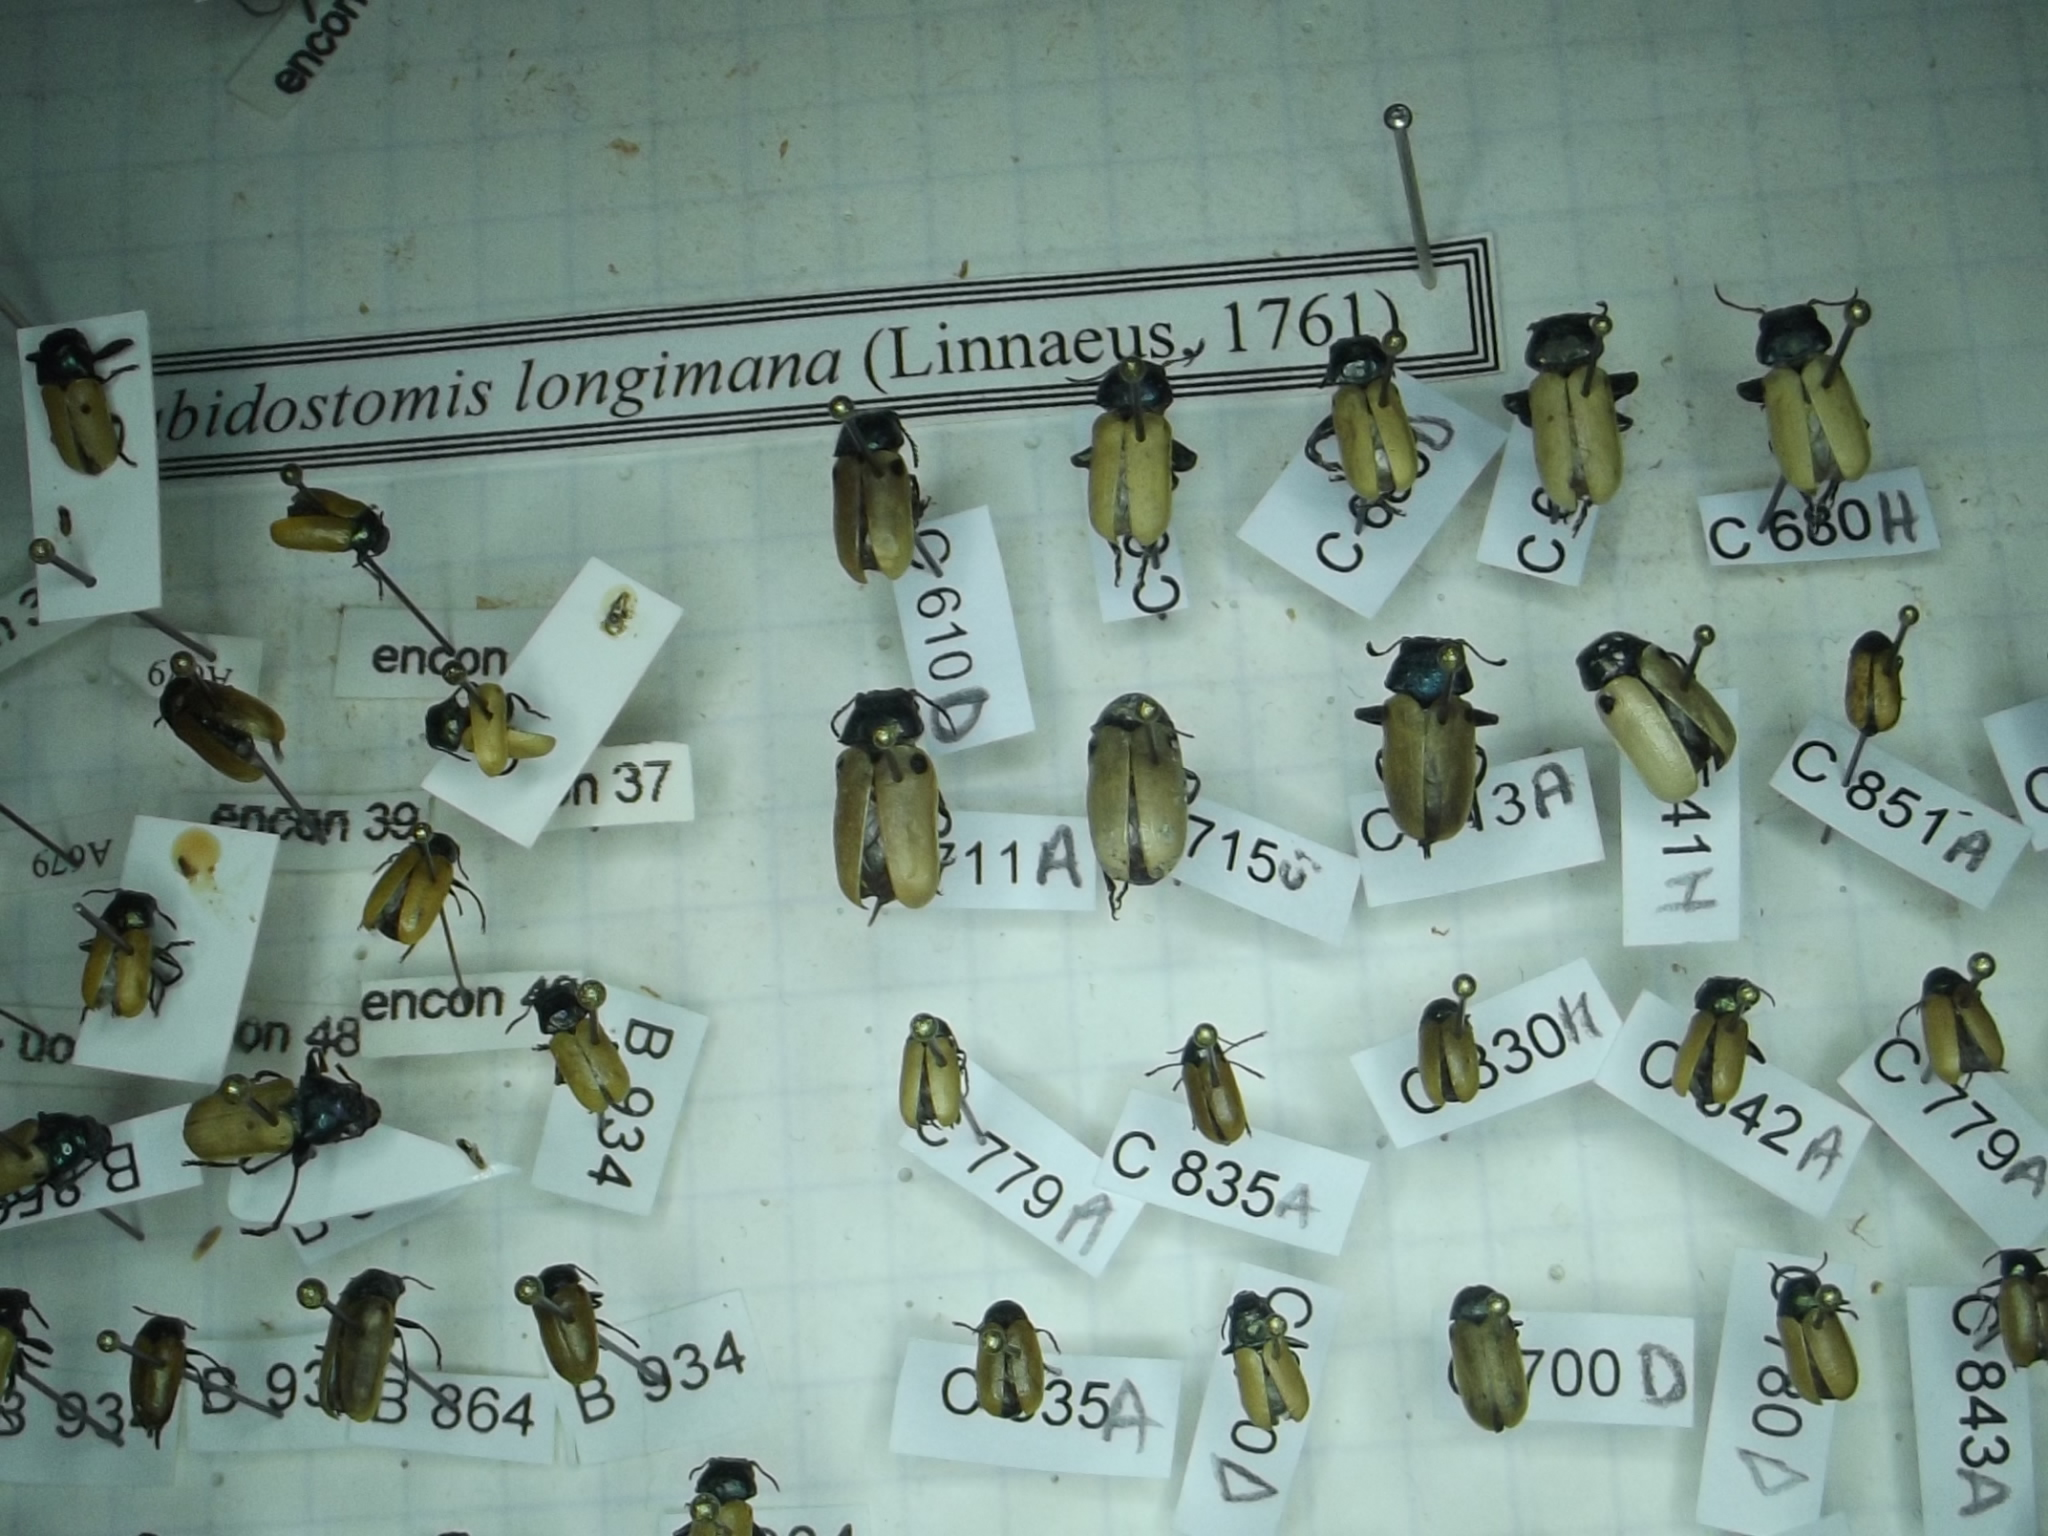Labidostomis_longimana: (1705, 257, 1898, 523), (1558, 602, 1759, 813), (1350, 603, 1517, 857), (1482, 282, 1653, 529), (801, 671, 956, 926), (1056, 337, 1209, 579), (1077, 678, 1200, 928), (1301, 326, 1442, 528), (813, 390, 947, 599), (289, 1250, 427, 1428), (526, 970, 650, 1142), (1867, 962, 2013, 1104), (1213, 1283, 1338, 1446), (1447, 1271, 1566, 1442), (361, 810, 489, 962), (60, 874, 185, 1023), (877, 999, 984, 1162), (1666, 962, 1775, 1120), (1150, 1021, 1274, 1150), (1825, 599, 1929, 753), (1408, 992, 1490, 1117)
